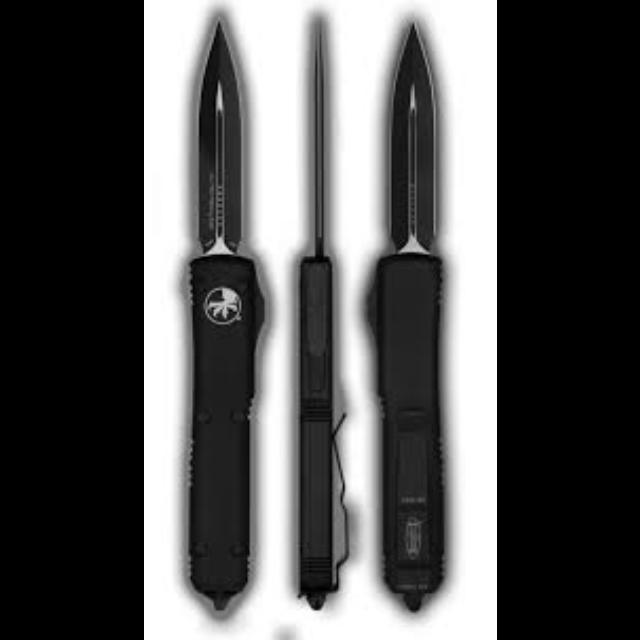Knife: (183, 16, 259, 610), (374, 22, 444, 610), (296, 8, 348, 610)
